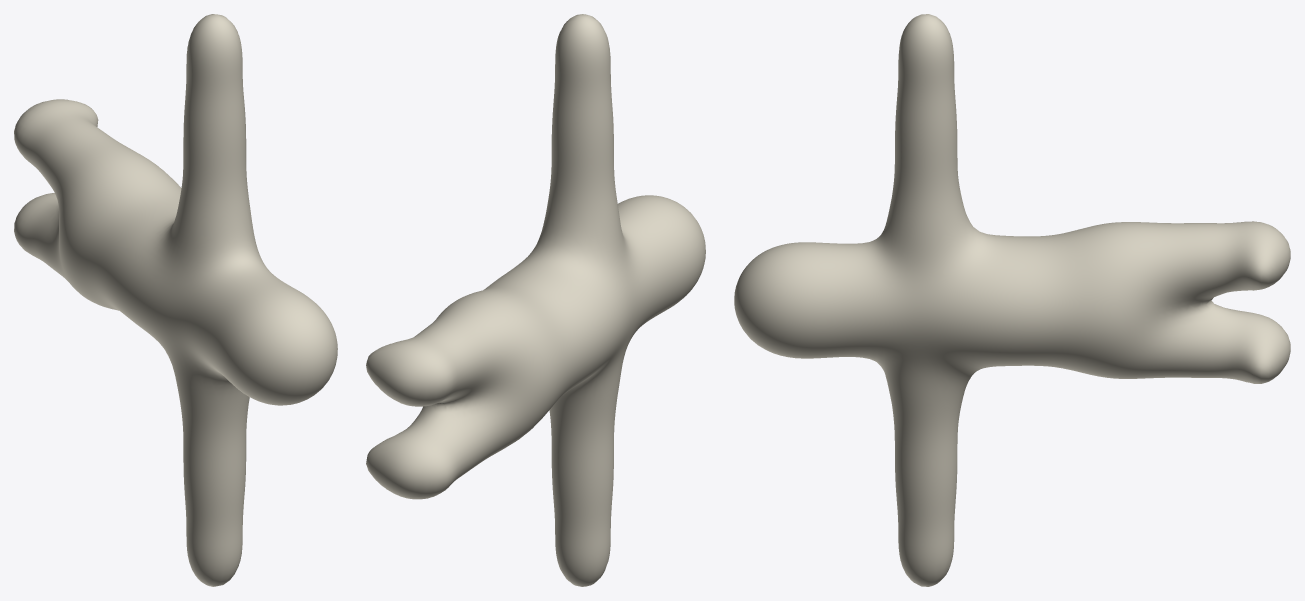
File: SM_HiderMetaball_Body.obj
The picture shows the model from 3 angles, left to right: view 1: azimuth 30°, elevation 25°; view 2: azimuth 150°, elevation 25°; view 3: azimuth 270°, elevation 25°; orthographic projection.
Parts seen in each view (by area): view 1: SM_HiderMetaball_Body; view 2: SM_HiderMetaball_Body; view 3: SM_HiderMetaball_Body.
Boxes of the visible parts, x1,y1,x2,y2 form: SM_HiderMetaball_Body: [14, 14, 337, 586]; SM_HiderMetaball_Body: [366, 14, 705, 586]; SM_HiderMetaball_Body: [734, 14, 1290, 586].
Size of the model in its own units: 46.49 by 210 by 186.
